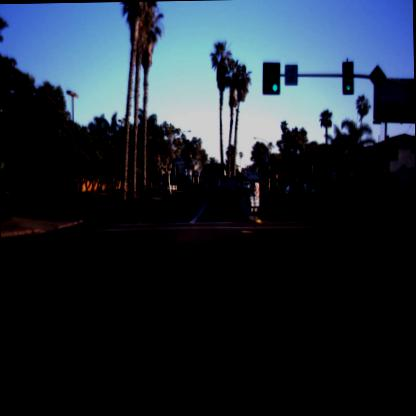trafficlight: (261, 60, 280, 96), (340, 61, 354, 92)
